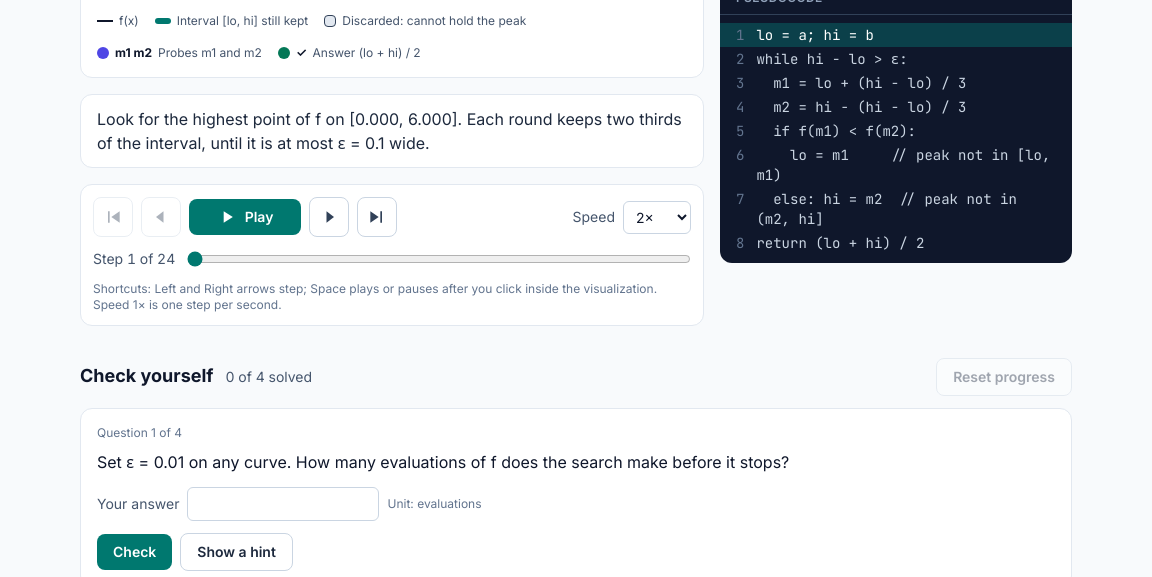
ternary search lesson › opens on the parabola and closes in on 3.7 in 11 rounds
(page scrolled)
Click the button named "Next step".
click(329, 217)  # box top-left (309, 197), bottom-right (349, 237)
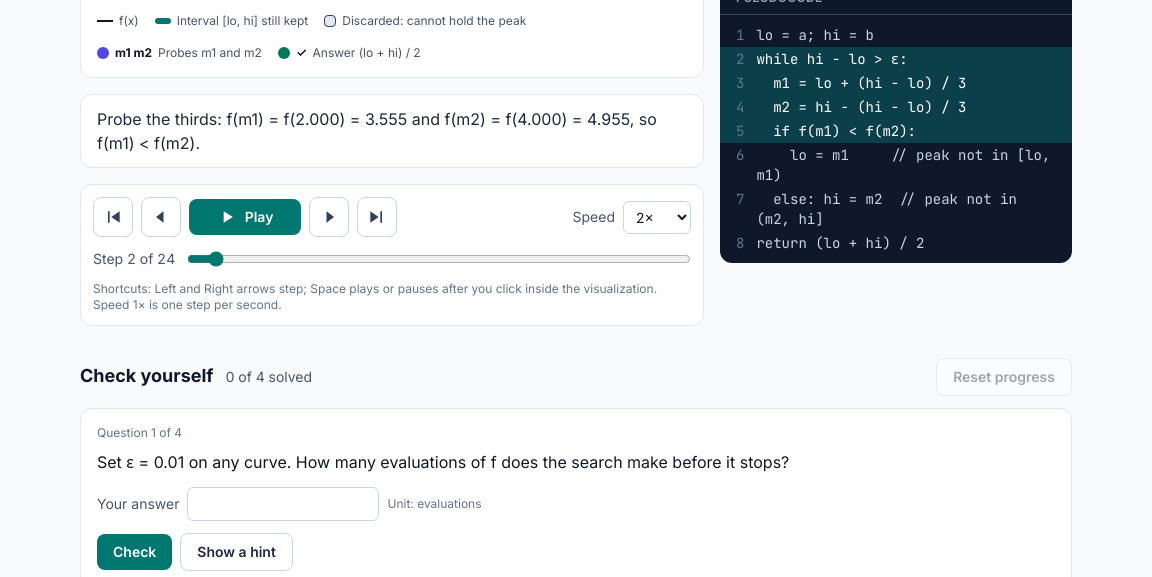
Expected: the text "f(m1) = f(2.000) = 3.555 and f(m2) = f(4.000) = 4.955, so f(m1) < f(m2)." is shown, top-left (97, 109), bottom-right (657, 153)
Click the button named "Next step".
click(329, 217)  # box top-left (309, 197), bottom-right (349, 237)
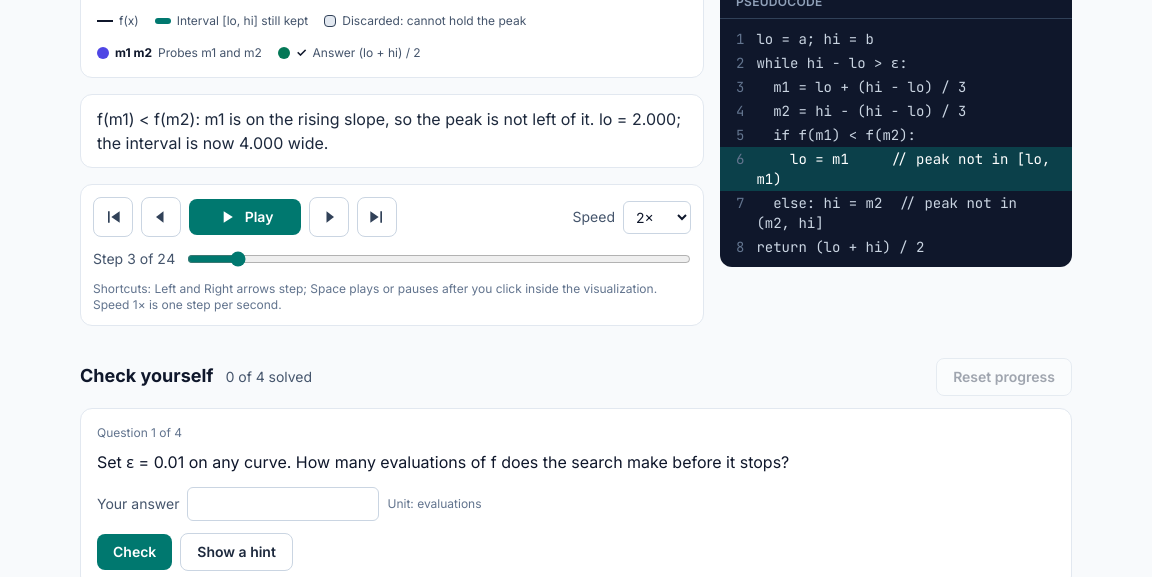
Expected: the text "lo = 2.000; the interval is now 4.000 wide." is shown, top-left (97, 109), bottom-right (681, 153)
Click the button named "Next step".
click(329, 217)  # box top-left (309, 197), bottom-right (349, 237)
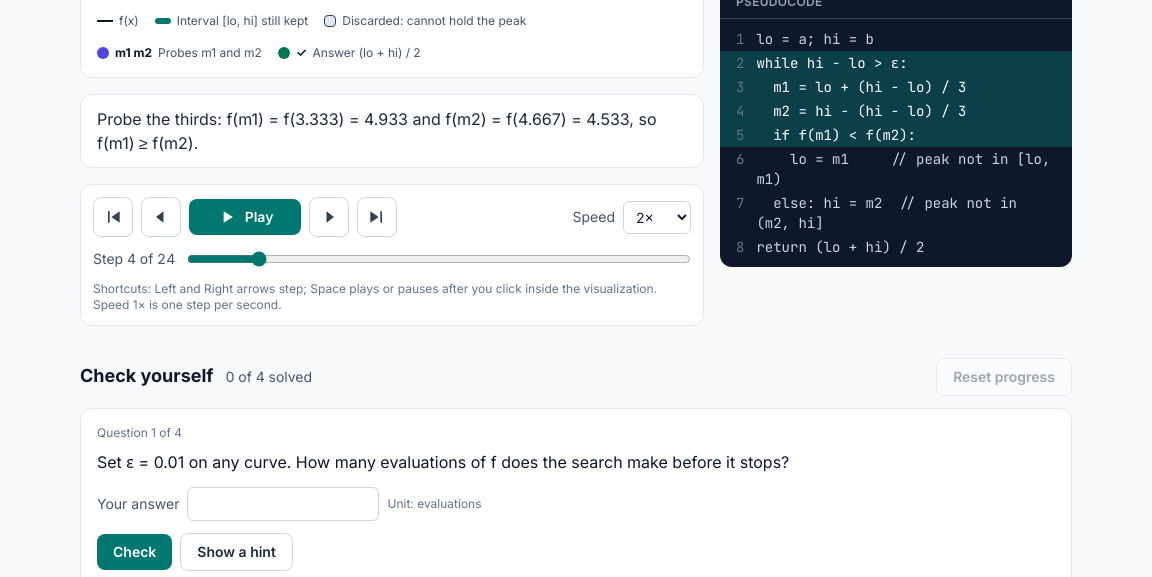
Click the button named "Next step".
click(329, 217)  # box top-left (309, 197), bottom-right (349, 237)
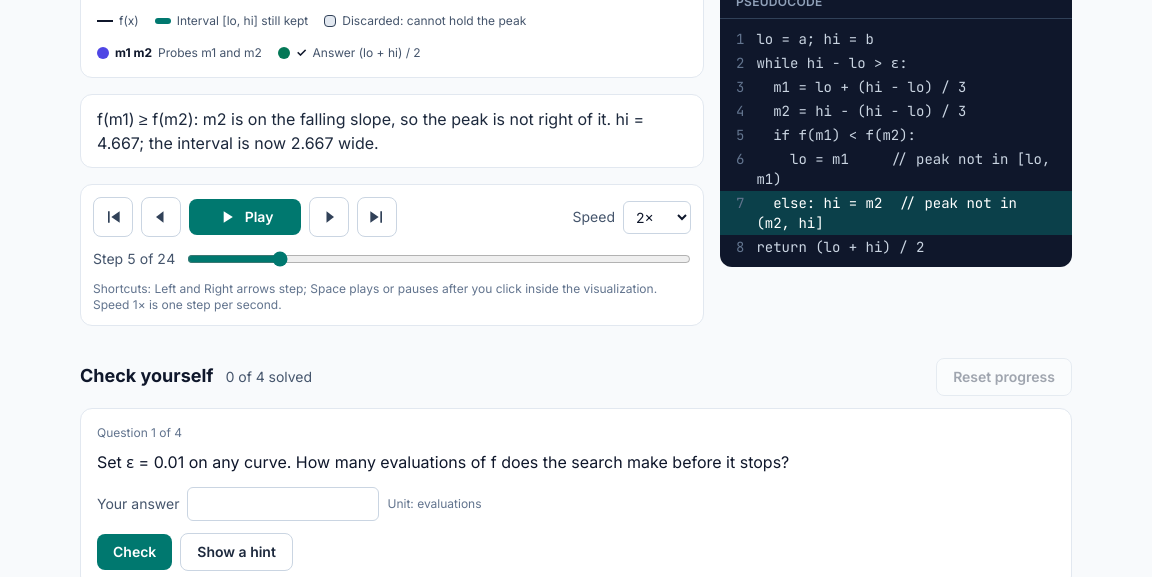
Expected: the text "hi = 4.667" is shown, top-left (97, 109), bottom-right (644, 153)
Click the button named "Last step".
click(377, 217)  # box top-left (357, 197), bottom-right (397, 237)
(page scrolled)
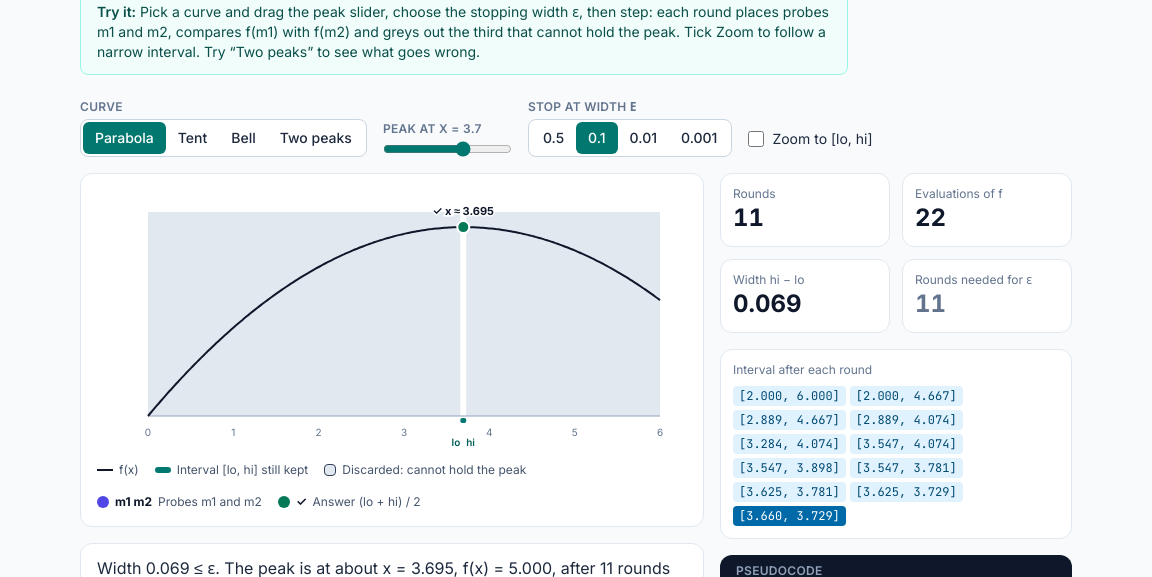
Expected: the 1st text "11" is shown, top-left (733, 203), bottom-right (764, 232)
